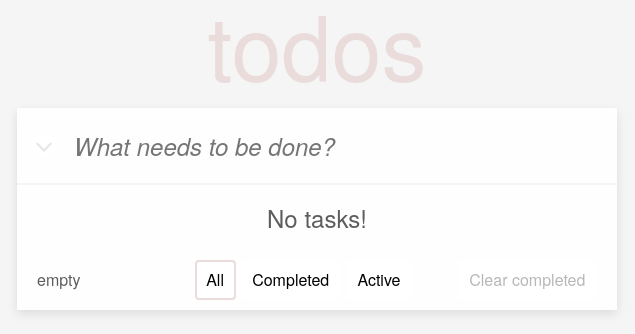
Test: Todo App functionality › Adding and Deleting Todos › adds a single todo and deletes it
The image size is (635, 334).
Type "Test Todo" into the field with placeholder "What needs to be done?" at (334, 146), box [66,123,602,168]
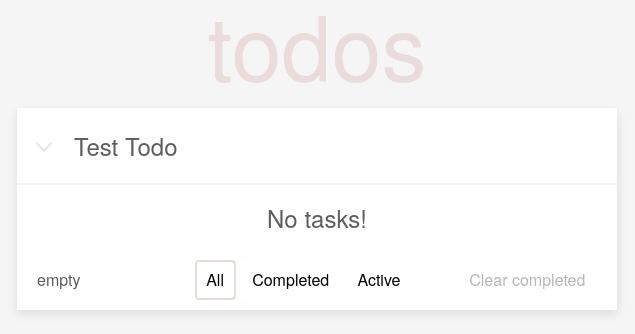
Click the button named "add todo" at (44, 146), box [32,134,56,158]
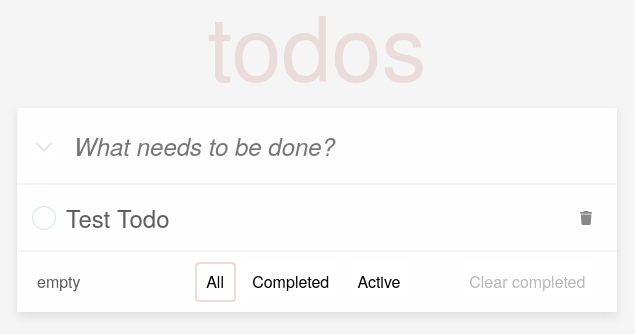
expect the text "Test Todo" is shown: met, box [66,200,170,235]
Click the button with test id "delete-button" at (586, 218), box [571,204,602,231]
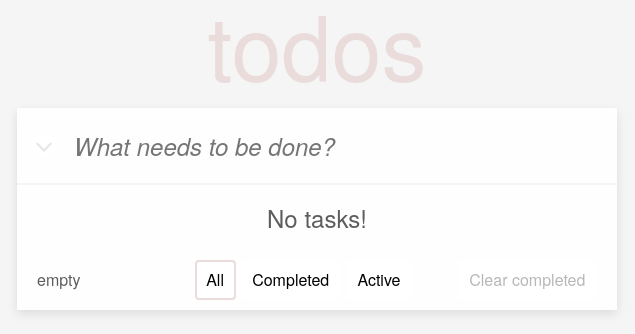
expect the text "Test Todo" is gone: met
